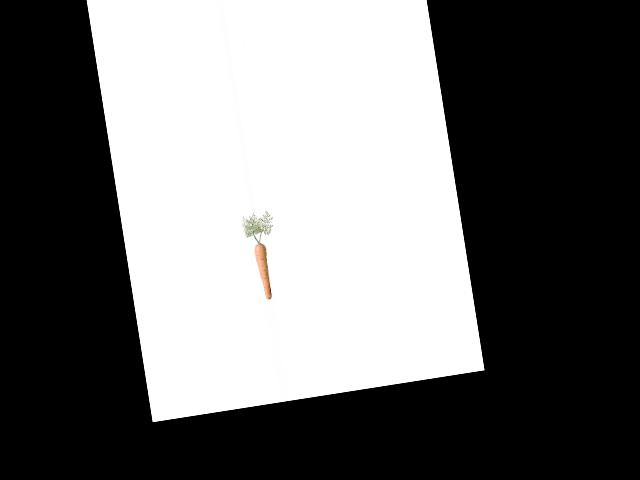carrot: (250, 237, 277, 303)
